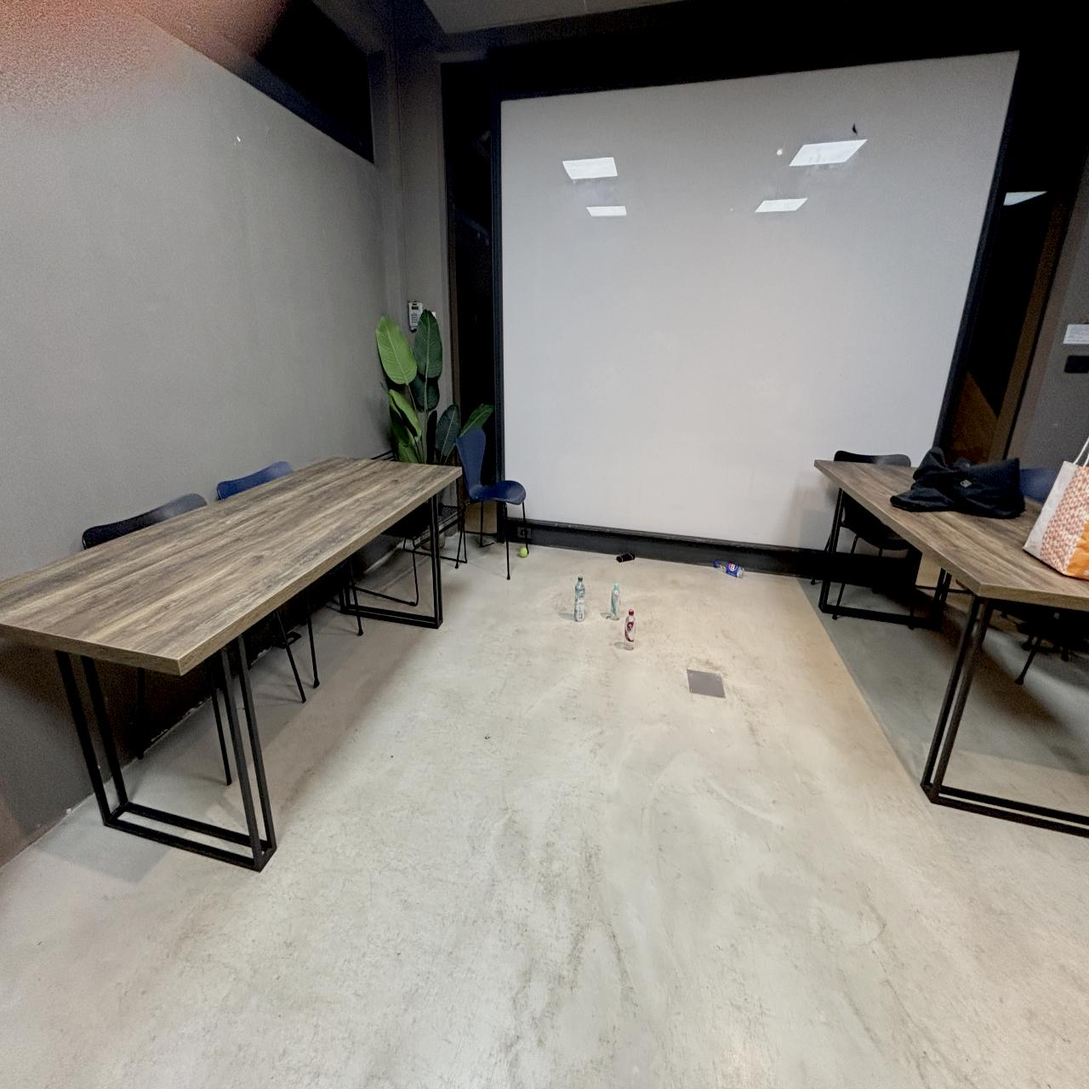plastic-bottle: (574, 575, 584, 621), (624, 609, 635, 649), (610, 583, 621, 619)
tennisball: (519, 546, 527, 557)
